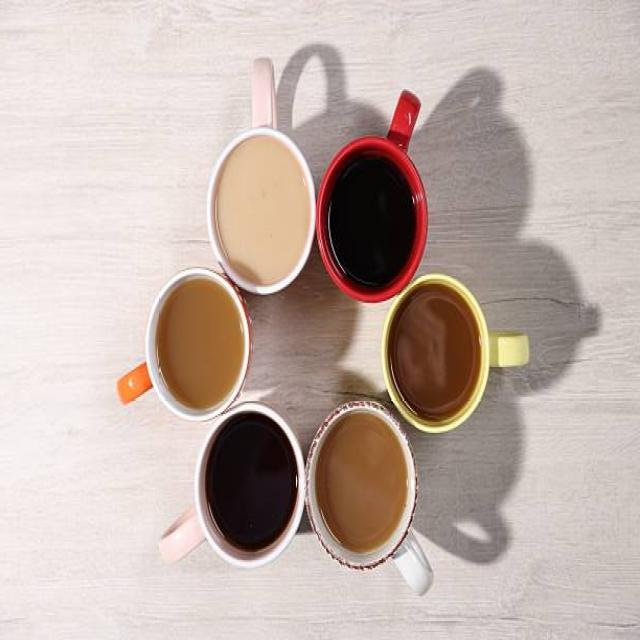Red_cup: (315, 90, 426, 302)
